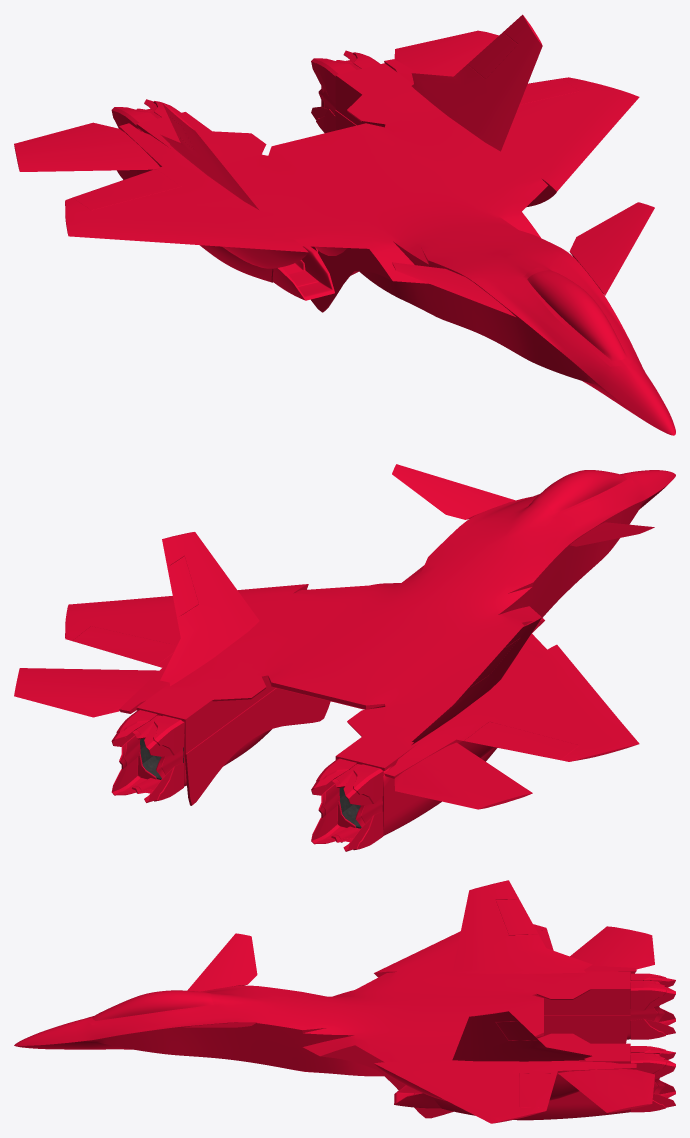
The model's file is FFR-31.fbx.
The picture shows the model from 3 angles, top to bottom: view 1: azimuth 30°, elevation 25°; view 2: azimuth 150°, elevation 25°; view 3: azimuth 270°, elevation 25°; orthographic projection. The views are drawn at different scales.
Parts seen in each view (by area): view 1: 立方体.014, 立方体.004, 立方体.002, 立方体; view 2: 立方体.014, 立方体.004, 立方体, 立方体.010; view 3: 立方体.014, 立方体.004, 立方体, 立方体.002.
Part boxes in pixels (<box>): 立方体.014: <box>14,14,675,435</box>; 立方体.004: <box>111,50,380,179</box>; 立方体.002: <box>272,246,334,300</box>; 立方体: <box>137,130,318,282</box>; 立方体.014: <box>14,464,675,842</box>; 立方体.004: <box>111,710,383,851</box>; 立方体: <box>138,721,497,835</box>; 立方体.010: <box>140,738,361,828</box>; 立方体.014: <box>14,880,654,1123</box>; 立方体.004: <box>630,973,675,1112</box>; 立方体: <box>432,1016,630,1120</box>; 立方体.002: <box>394,1085,440,1108</box>.
Bounding box in the file's own units: 464 × 151 × 625.
